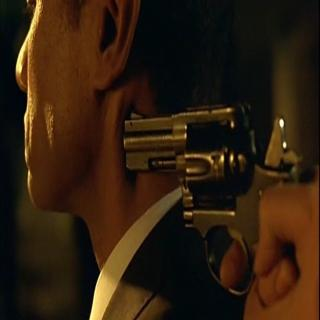gun: (121, 100, 299, 298)
